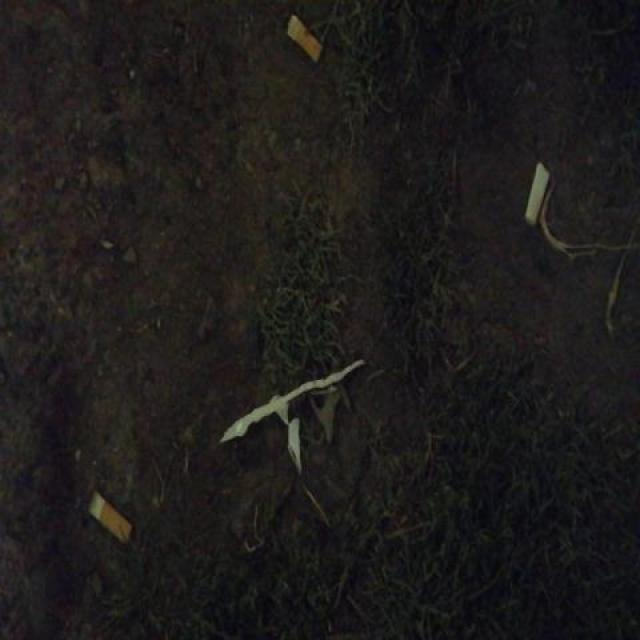non-organic waste: (83, 484, 134, 552), (521, 159, 555, 232), (283, 10, 324, 70)
